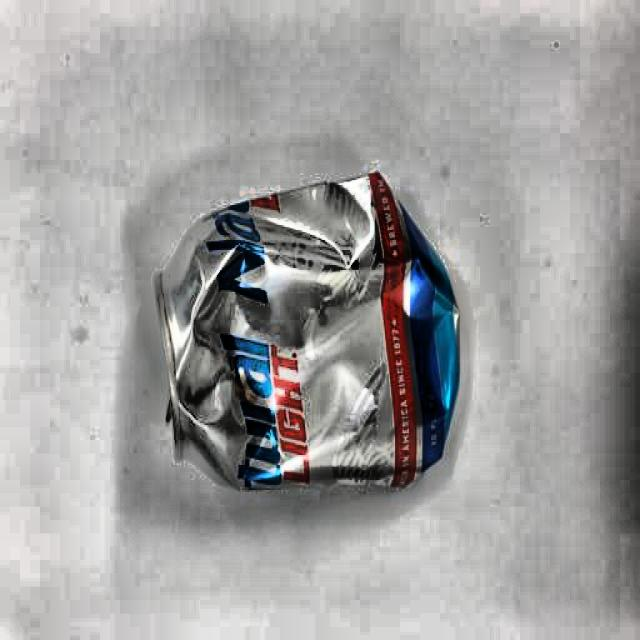metal: (151, 167, 463, 494)
